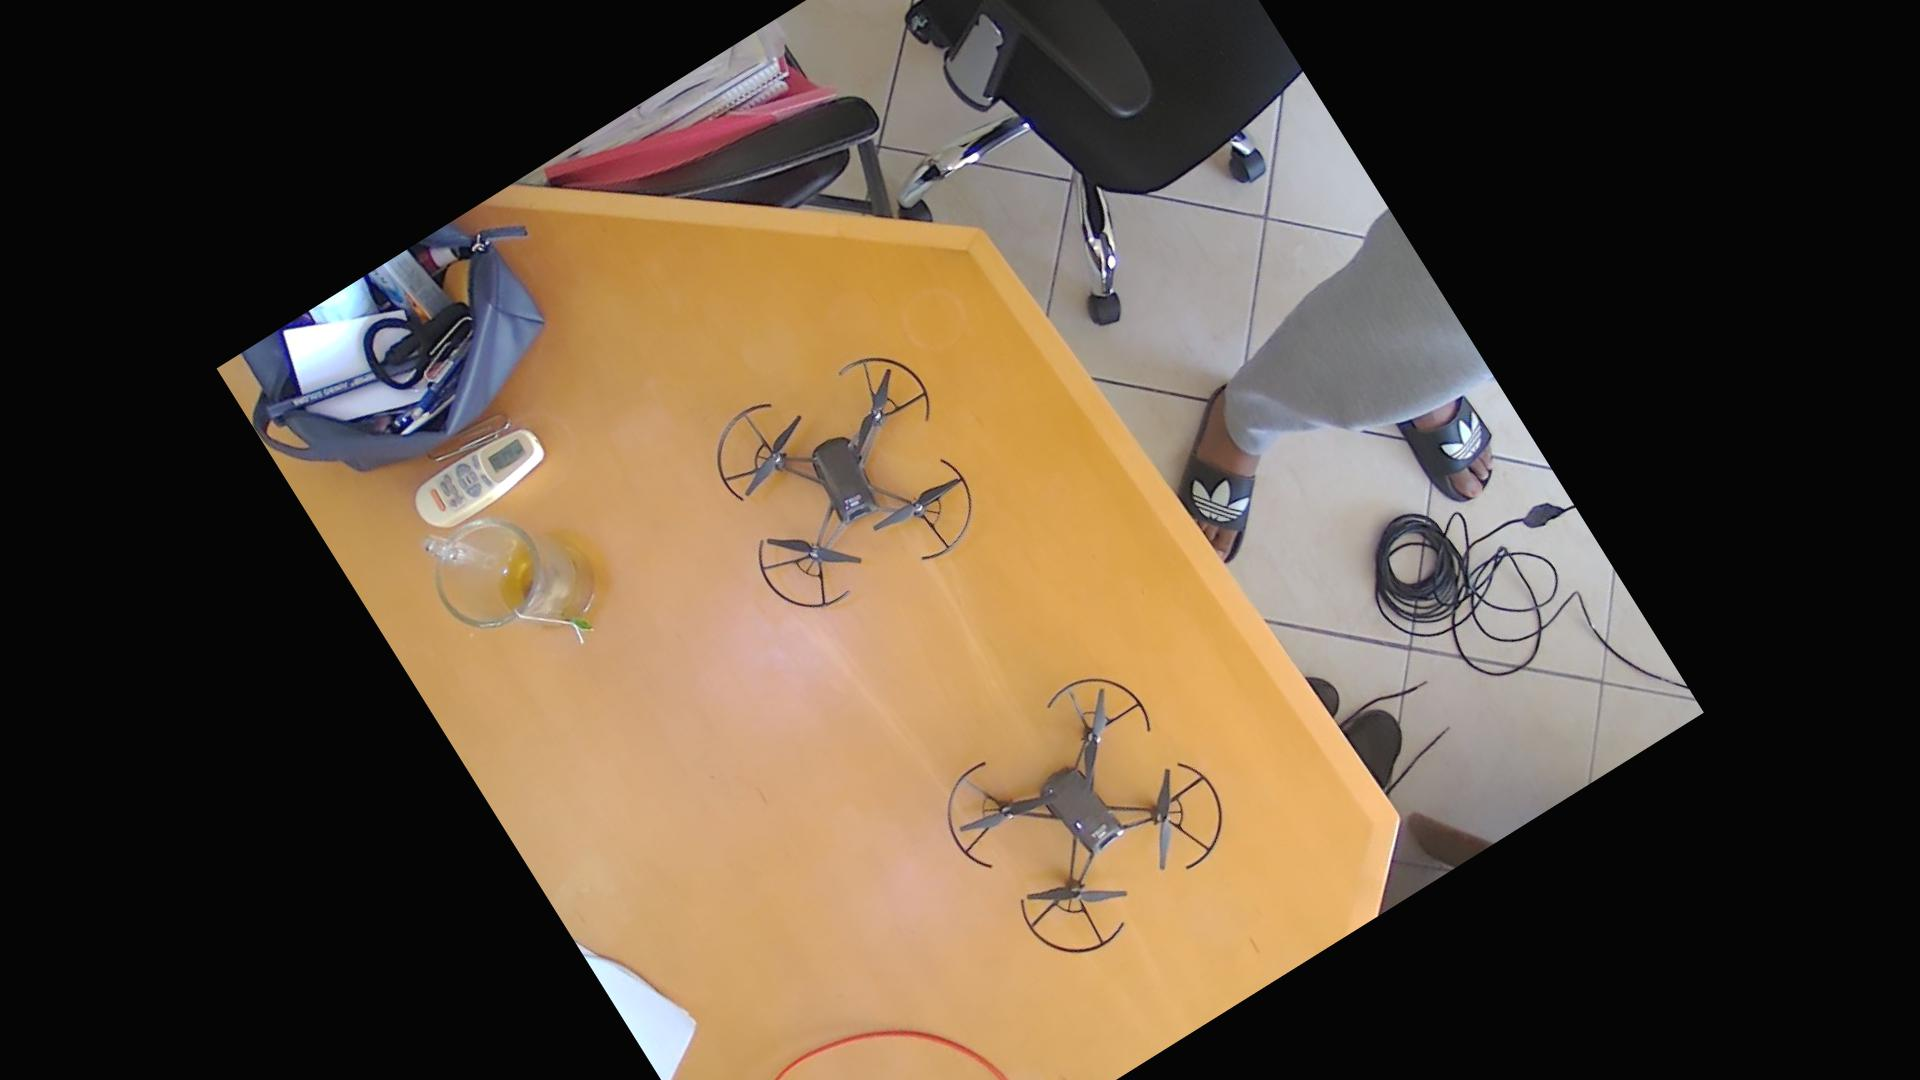dji-tello-edu-drone: (881, 615, 1276, 1009), (653, 299, 1033, 676)
